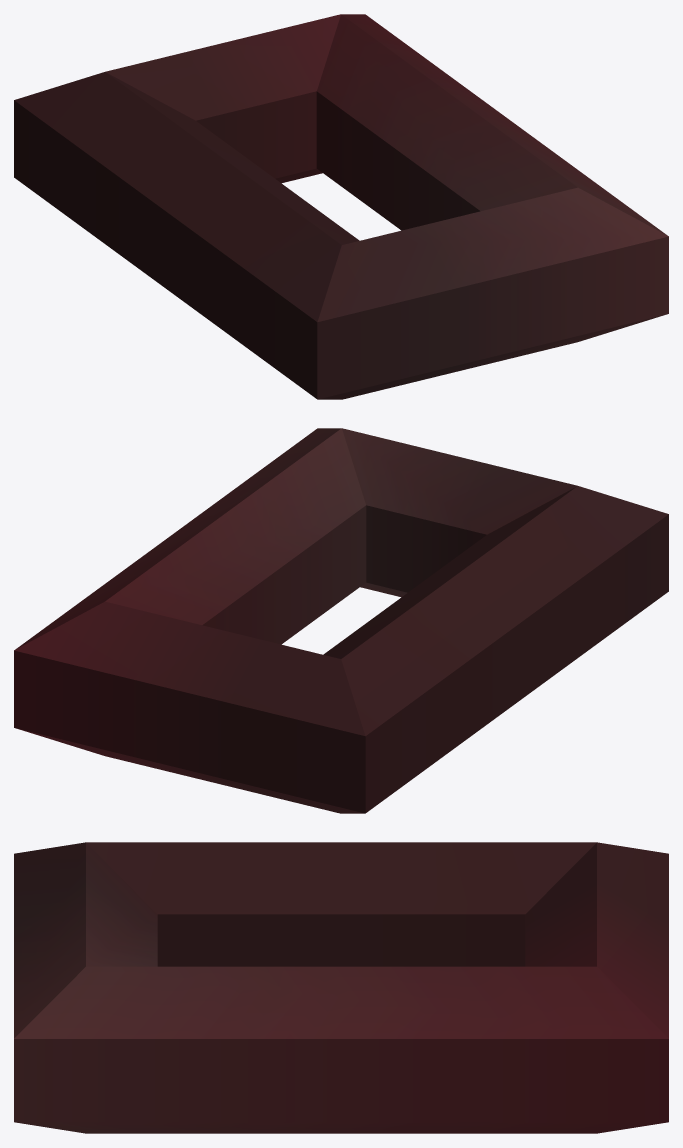
The model's file is SM_Chain_Small_01.fbx.
3 views of the same model, one above another, from view 1: azimuth 30°, elevation 25°; view 2: azimuth 150°, elevation 25°; view 3: azimuth 270°, elevation 25° (orthographic). The views are drawn at different scales.
Parts seen in each view (by area): view 1: SM_Chain_Small_01; view 2: SM_Chain_Small_01; view 3: SM_Chain_Small_01.
Boxes of the visible parts, box(x1,y1,x2,y2) form: SM_Chain_Small_01: box(14, 14, 668, 399); SM_Chain_Small_01: box(14, 428, 668, 813); SM_Chain_Small_01: box(14, 842, 668, 1133).
Size of the model in its own units: 107 by 45.08 by 160.
1 material, 1 textured.
